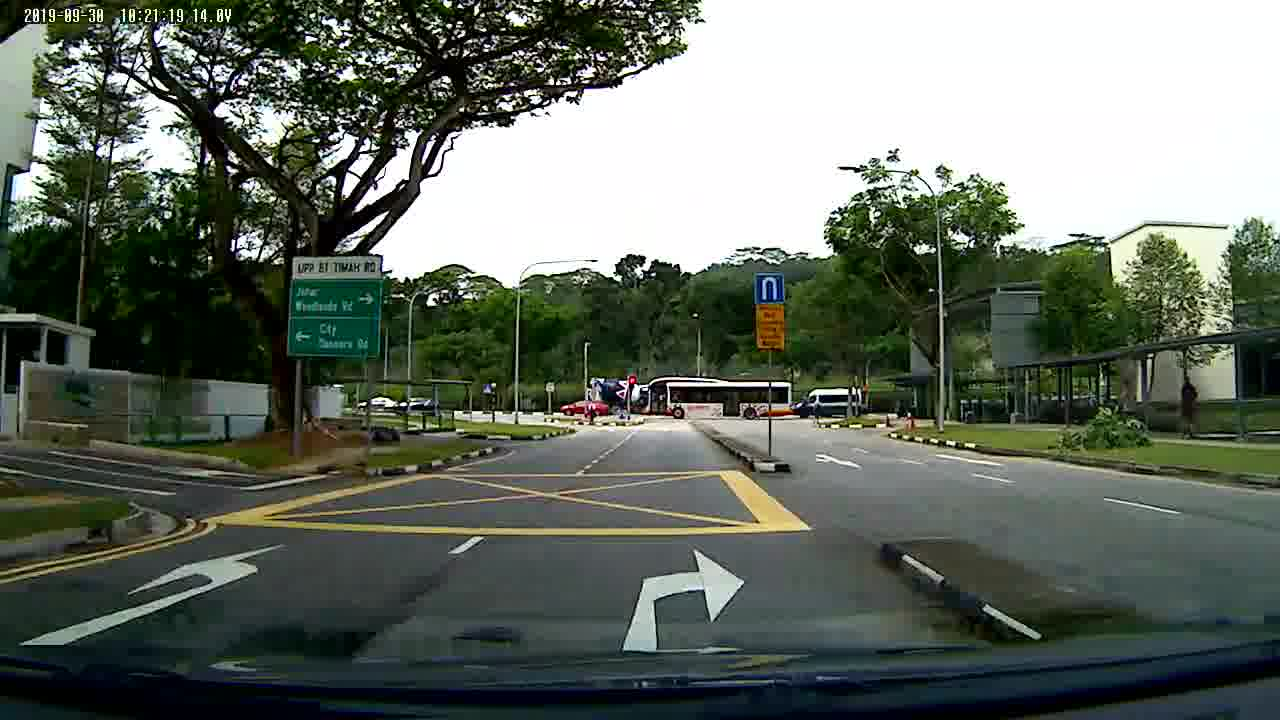bus: (643, 375, 794, 421)
car: (560, 400, 611, 418)
